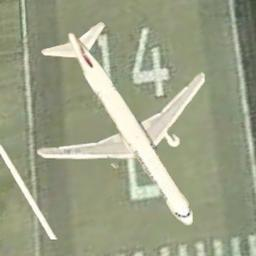Airplane: (36, 20, 206, 226)
